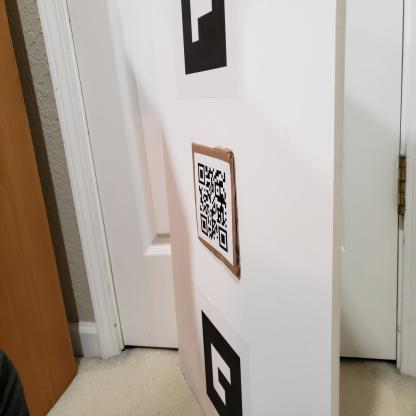qr: (195, 161, 231, 254)
